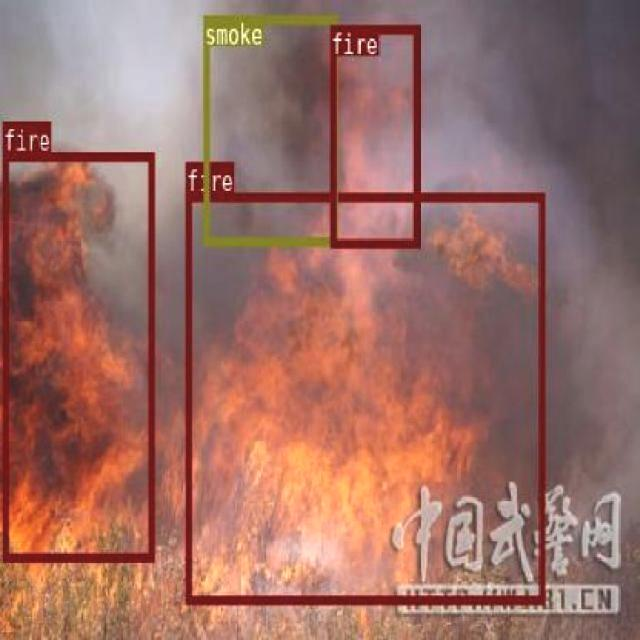fire: (185, 191, 544, 604), (2, 152, 152, 560), (330, 25, 418, 246)
smoke: (202, 15, 336, 243)
